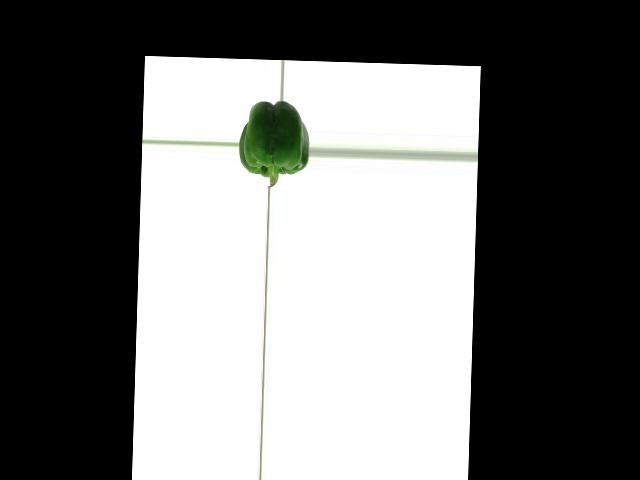bell_pepper: (238, 99, 309, 187)
